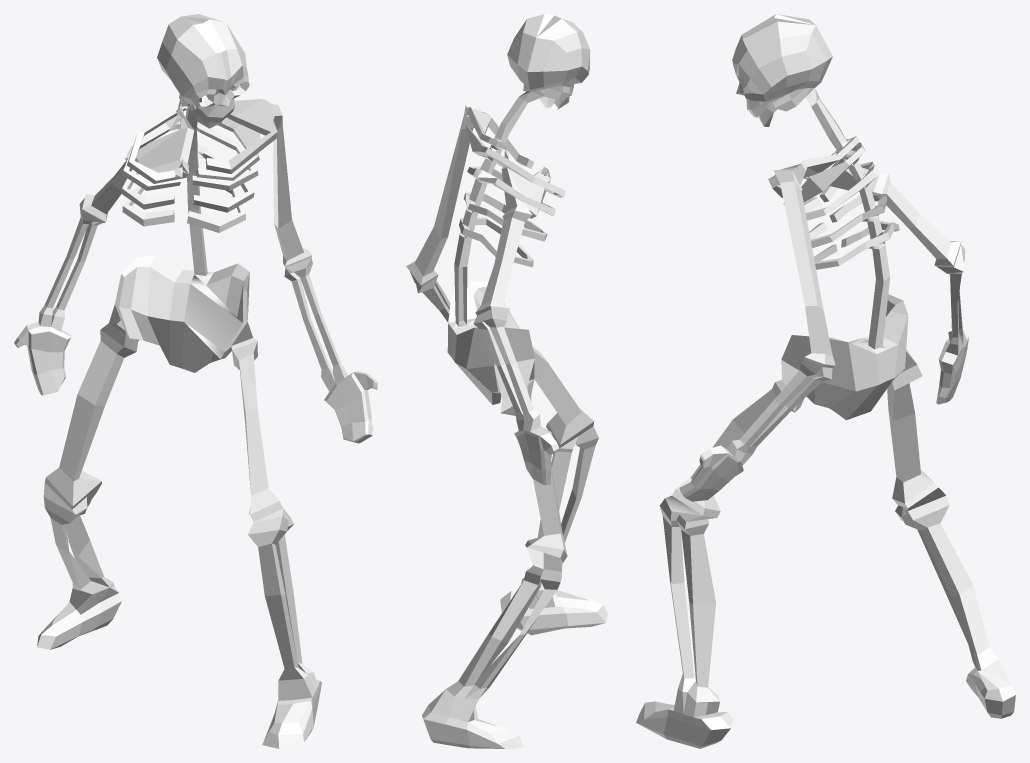
Rendered from SkeletonIdle(6).obj.
3 views of the same model, side by side, from view 1: azimuth 30°, elevation 25°; view 2: azimuth 150°, elevation 25°; view 3: azimuth 270°, elevation 25° (orthographic). The views are drawn at different scales.
Parts seen in each view (by area): view 1: Object002; view 2: Object002; view 3: Object002.
Boxes of the visible parts, bbox=[...] form: Object002: bbox=[14, 14, 377, 748]; Object002: bbox=[406, 14, 607, 748]; Object002: bbox=[636, 14, 1015, 748].
Size of the model in its own units: 405 by 1122 by 556.
